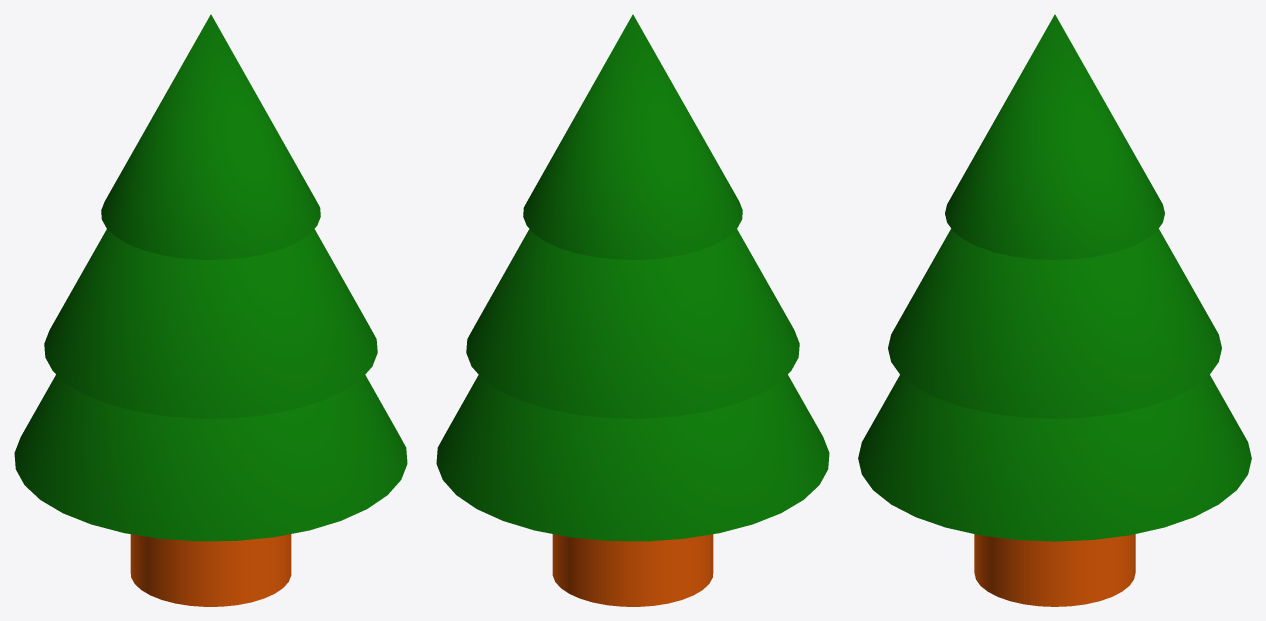
The model's file is tree.glb.
3 views of the same model, side by side, from view 1: azimuth 30°, elevation 25°; view 2: azimuth 150°, elevation 25°; view 3: azimuth 270°, elevation 25° (orthographic).
Visible parts, largest first — view 1: Cone.001, Cone, Cone.002, Cylinder; view 2: Cone.001, Cone, Cone.002, Cylinder; view 3: Cone.001, Cone, Cone.002, Cylinder.
Boxes of the visible parts, x1=… form: Cone.001: x1=44, y1=229, x2=377, y2=418; Cone: x1=14, y1=374, x2=407, y2=541; Cone.002: x1=101, y1=14, x2=320, y2=259; Cylinder: x1=130, y1=534, x2=291, y2=606; Cone.001: x1=466, y1=229, x2=799, y2=418; Cone: x1=436, y1=374, x2=829, y2=541; Cone.002: x1=523, y1=14, x2=742, y2=259; Cylinder: x1=552, y1=534, x2=713, y2=606; Cone.001: x1=888, y1=228, x2=1221, y2=418; Cone: x1=858, y1=375, x2=1251, y2=541; Cone.002: x1=945, y1=14, x2=1164, y2=259; Cylinder: x1=974, y1=534, x2=1135, y2=606.
Bounding box in the file's own units: 1.72 × 2.69 × 1.72.
